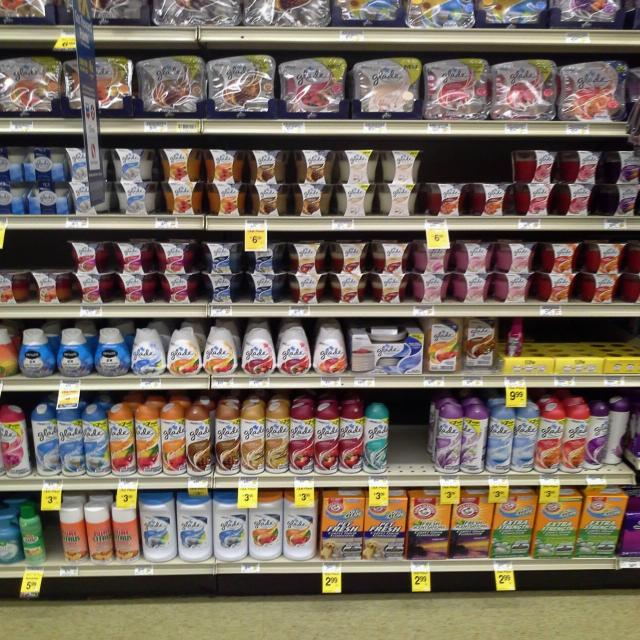empty_space: (426, 146, 510, 184), (1, 227, 69, 273), (391, 406, 433, 472), (531, 318, 629, 344)
